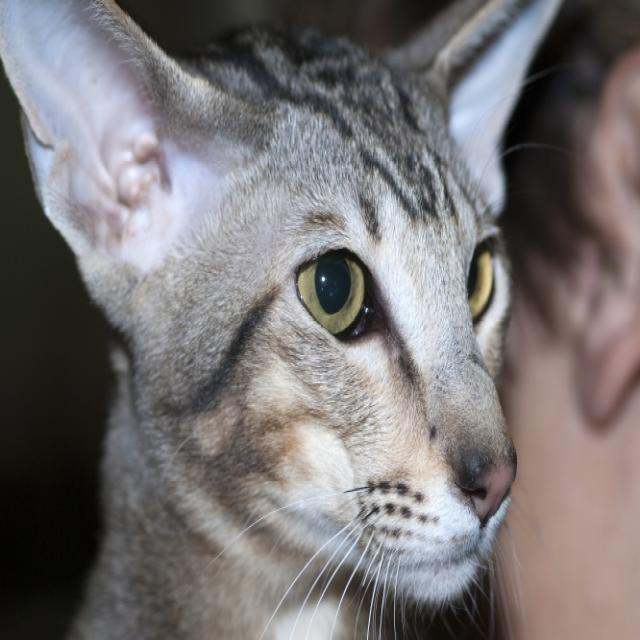Oriental: (0, 0, 585, 640)
